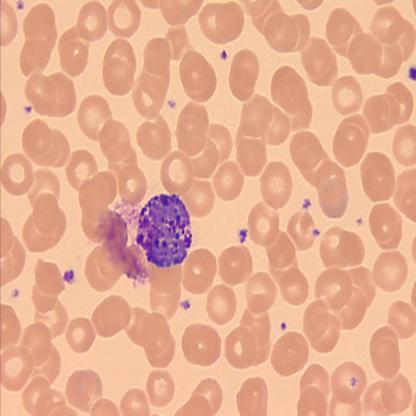Basophil: (134, 191, 193, 268)
